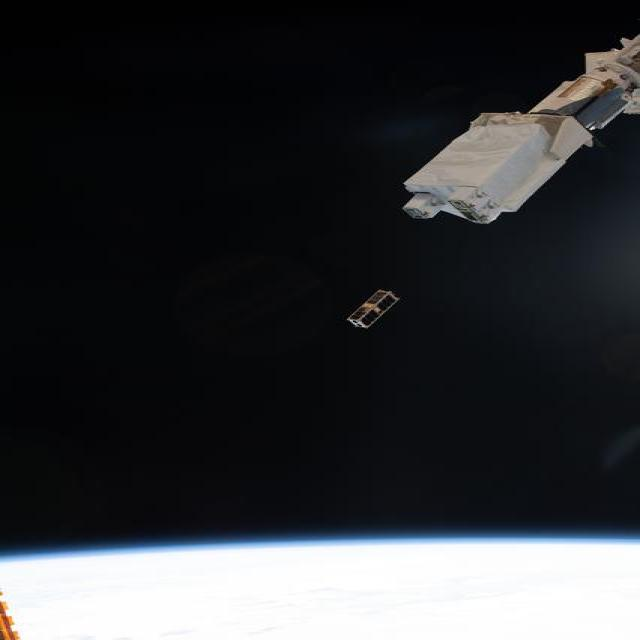satellite: (404, 36, 640, 223)
